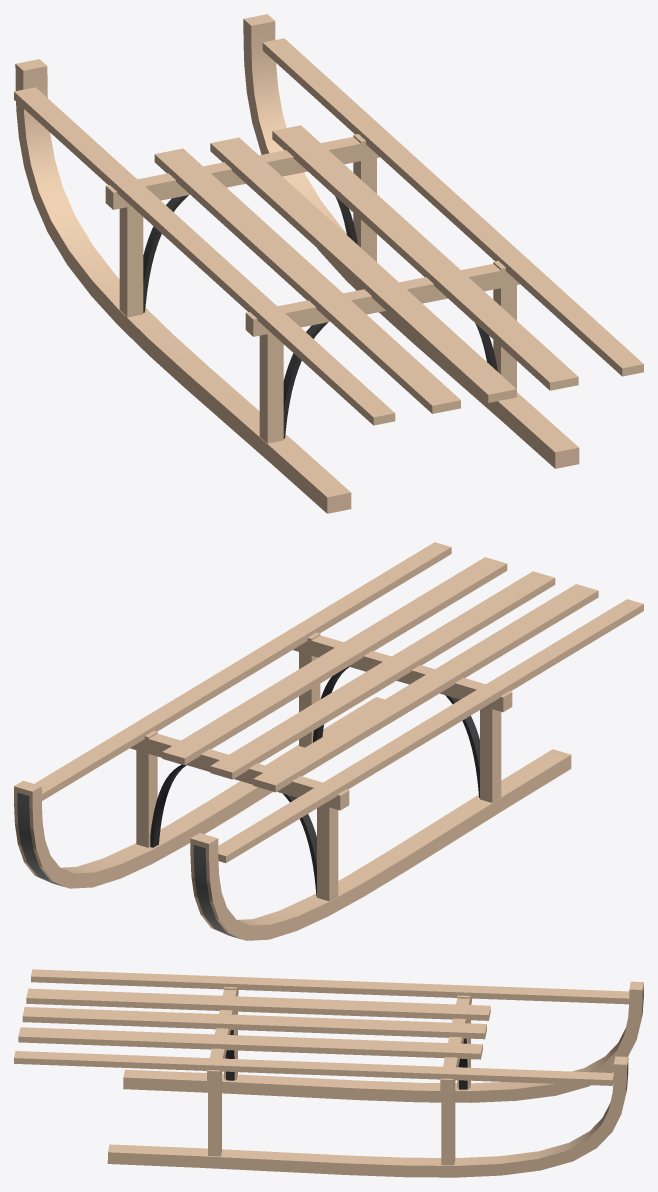
Rendered from Sled.gltf.
3 views of the same model, one above another, from view 1: azimuth 30°, elevation 25°; view 2: azimuth 150°, elevation 25°; view 3: azimuth 270°, elevation 25° (orthographic). The views are drawn at different scales.
Parts seen in each view (by area): view 1: node-0; view 2: node-0; view 3: node-0.
Boxes of the visible parts, <box> form: node-0: <box>14,14,643,513</box>; node-0: <box>14,542,643,940</box>; node-0: <box>14,969,643,1177</box>.
Size of the model in its own units: 13671 by 6937 by 32835.
